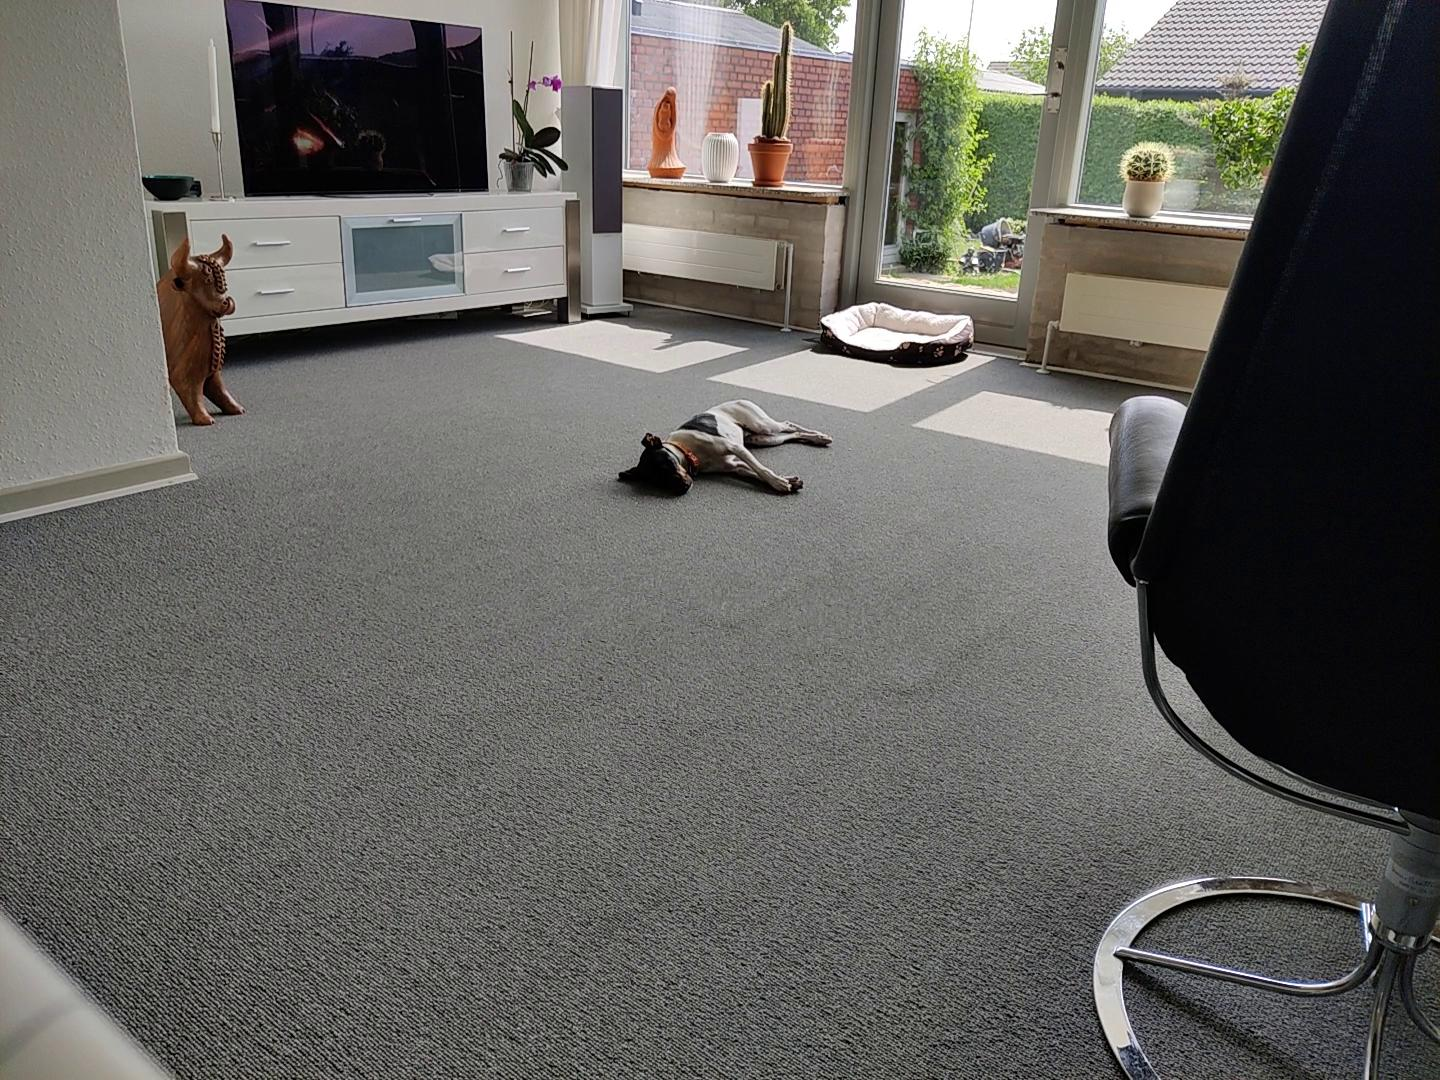Dog: (608, 388, 838, 511)
